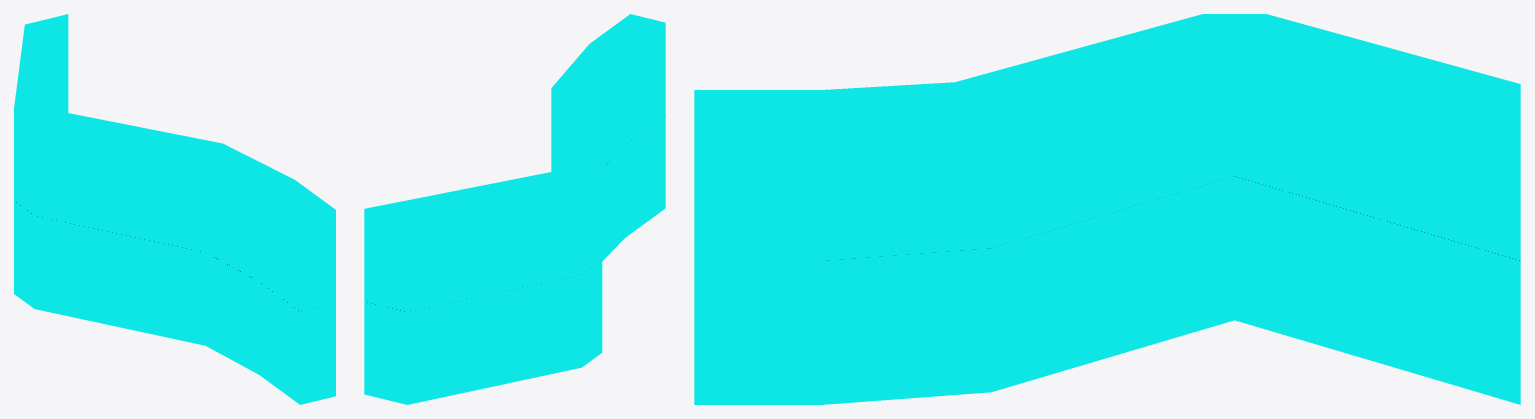
File: BodyBuilder_GRIPPER0_lk.dae
3 renders of one model, left to right at view 1: azimuth 30°, elevation 25°; view 2: azimuth 150°, elevation 25°; view 3: azimuth 270°, elevation 25°, orthographic. The views are drawn at different scales.
Parts seen in each view (by area): view 1: root; view 2: root; view 3: root.
Part boxes in pixels (<box>): root: <box>14,14,335,404</box>; root: <box>364,14,665,404</box>; root: <box>694,14,1520,404</box>.
Bounding box in the file's own units: 0.0536 × 0.07 × 0.182.
